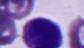L: (22, 16, 63, 48)
